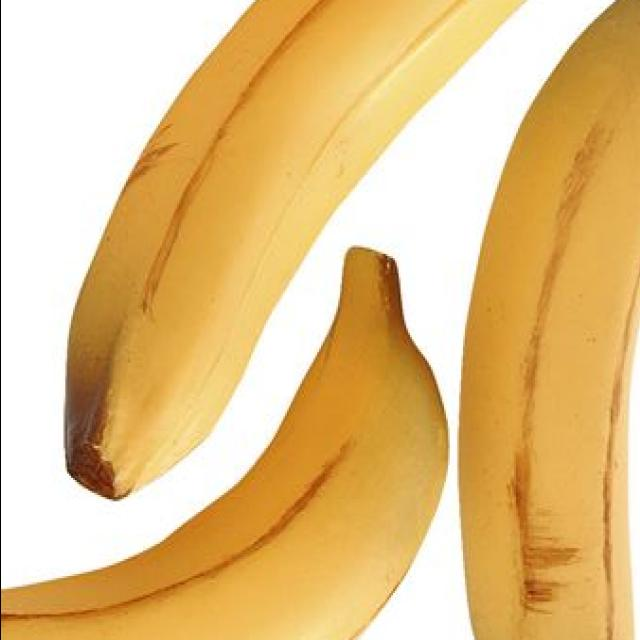banana: (51, 0, 527, 504), (0, 240, 445, 640), (455, 0, 640, 640)
